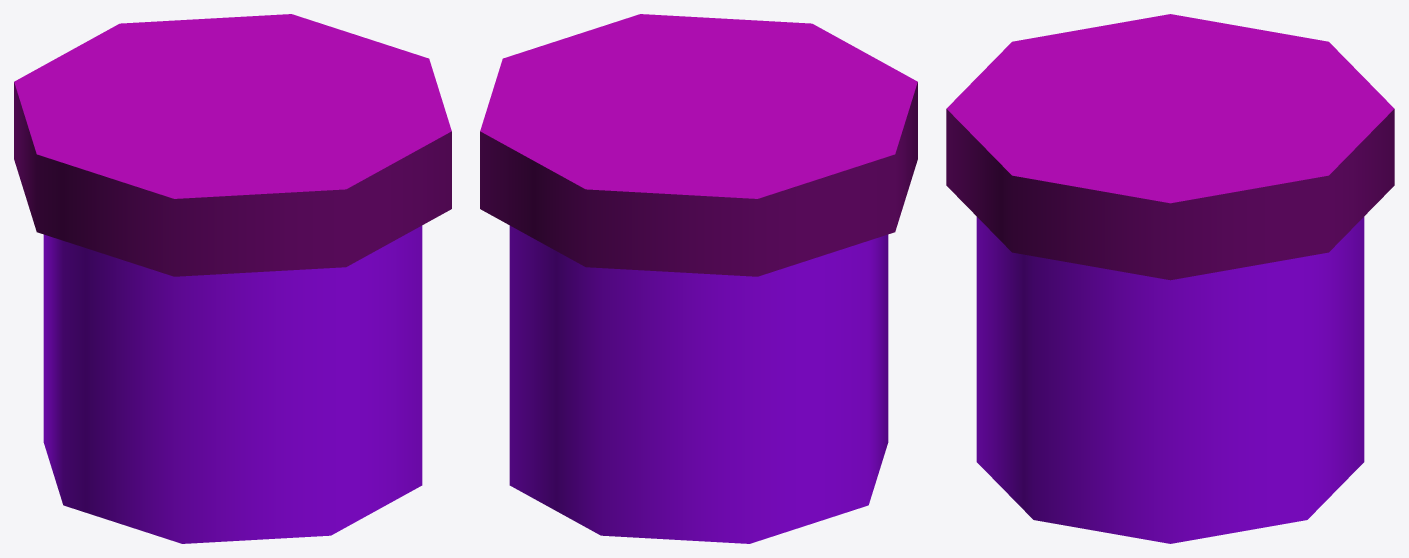
Rendered from Container2.fbx.
3 views of the same model, side by side, from view 1: azimuth 30°, elevation 25°; view 2: azimuth 150°, elevation 25°; view 3: azimuth 270°, elevation 25° (orthographic).
Parts seen in each view (by area): view 1: Container2; view 2: Container2; view 3: Container2.
Boxes of the visible parts, x1,y1,x2,y2 form: Container2: (14, 14, 451, 543); Container2: (480, 14, 917, 543); Container2: (946, 14, 1394, 543).
Bounding box in the file's own units: 15.83 × 13.78 × 15.83.
